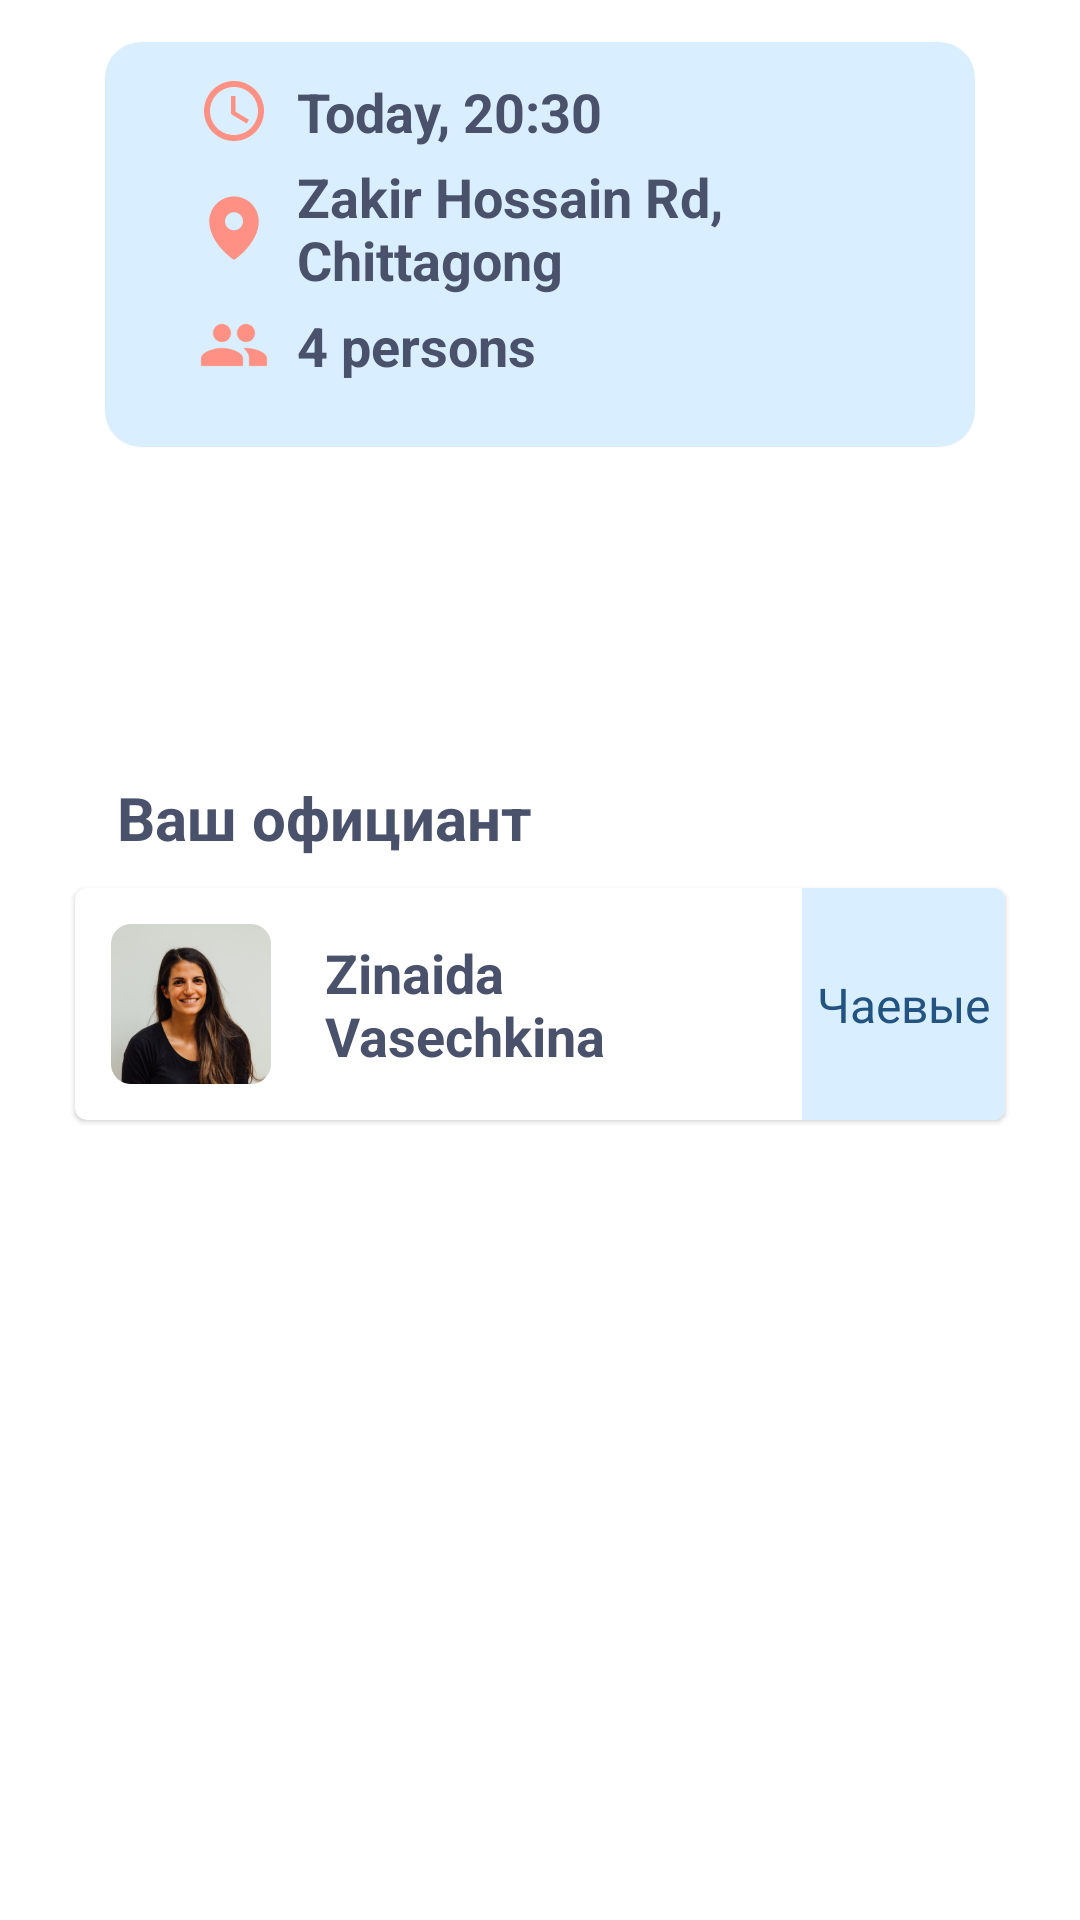

Locate icon controls on the screen. Image size 1080 × 1920, boxes as bbox(x1, y1, x2, y2).
clock: bbox(204, 81, 264, 141)
guests: bbox(201, 324, 267, 366)
